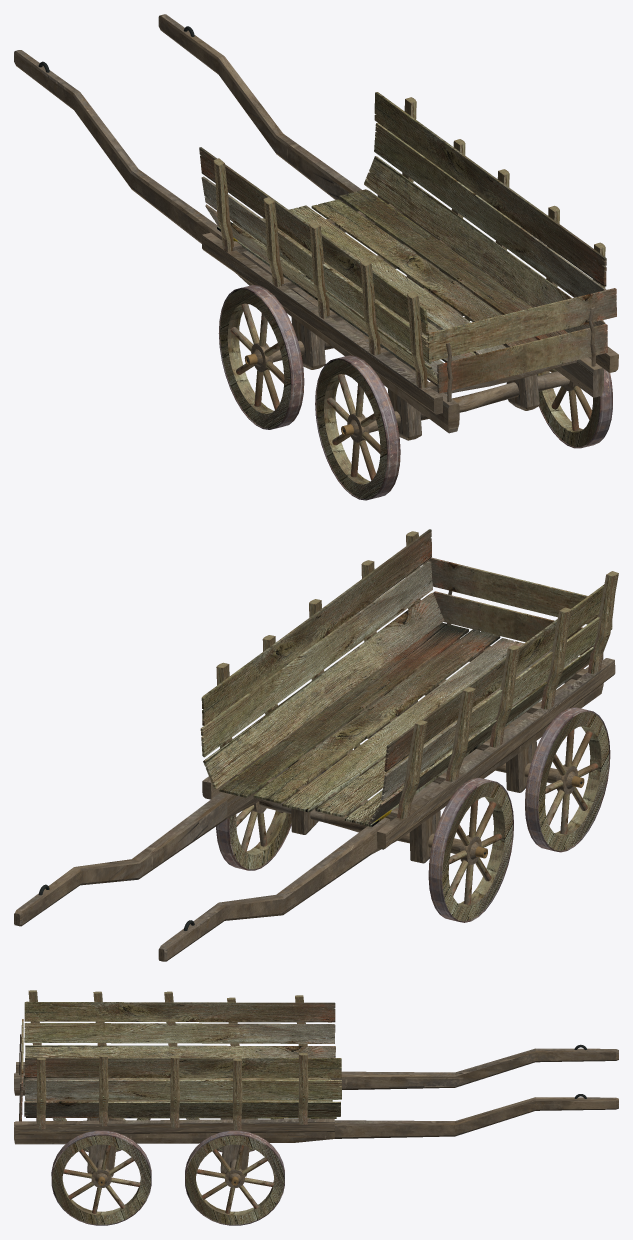
File: carro_4_ruote.gltf
The picture shows the model from 3 angles, top to bottom: view 1: azimuth 30°, elevation 25°; view 2: azimuth 150°, elevation 25°; view 3: azimuth 270°, elevation 25°; orthographic projection. The views are drawn at different scales.
Visible parts, largest first — view 1: carro_4_ruote; view 2: carro_4_ruote; view 3: carro_4_ruote.
Part boxes in pixels (x1,y1,x2,y2): carro_4_ruote: [14, 14, 618, 500]; carro_4_ruote: [14, 529, 618, 961]; carro_4_ruote: [14, 990, 618, 1225].
Bounding box in the file's own units: 0.9461 × 0.8948 × 2.97.
Materials: 6 (6 with a texture image).
